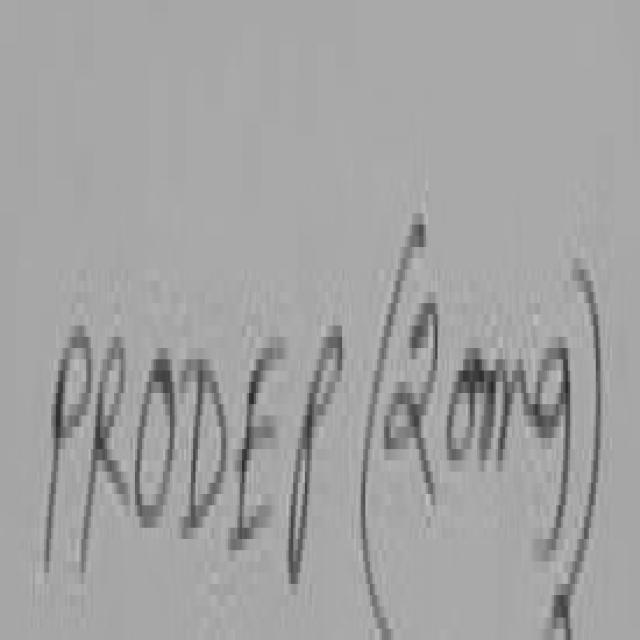0: (449, 368, 475, 460)
2: (386, 296, 440, 500)
D: (190, 354, 226, 532)
E: (235, 354, 286, 545)
O: (135, 359, 175, 522)
P: (289, 326, 341, 578), (43, 324, 90, 579)
R: (81, 329, 130, 567)
g: (533, 348, 573, 571)
m: (470, 335, 538, 501)
